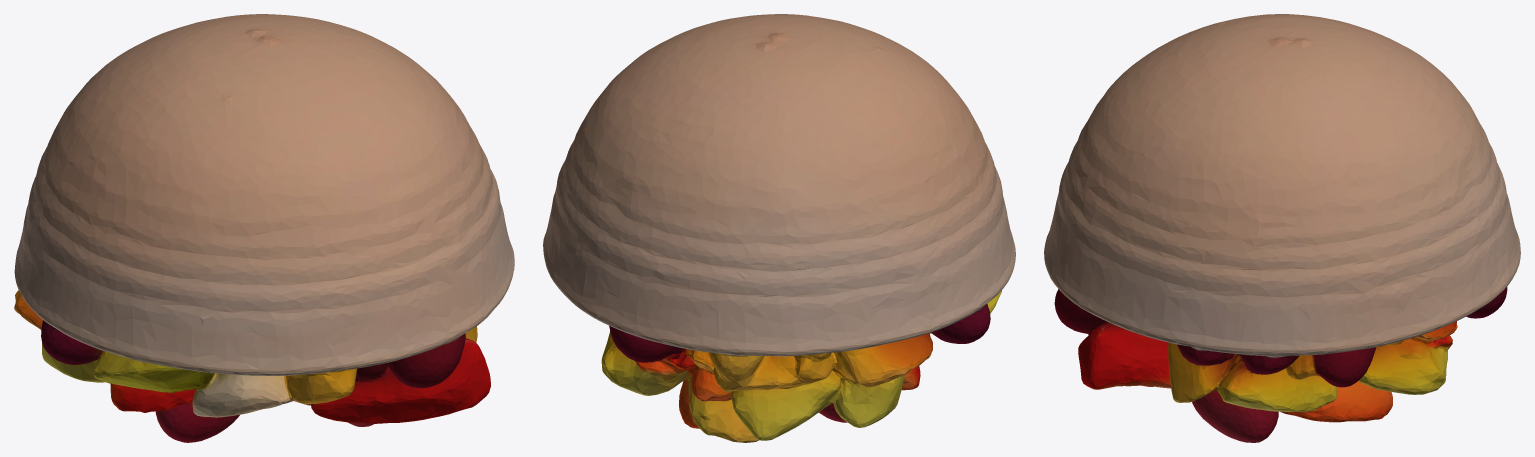
The model's file is item_salada.obj.
3 views of the same model, side by side, from view 1: azimuth 30°, elevation 25°; view 2: azimuth 150°, elevation 25°; view 3: azimuth 270°, elevation 25° (orthographic). The views are drawn at different scales.
Size of the model in its own units: 99.62 by 83.89 by 100.
Materials: 1 (1 with a texture image).
